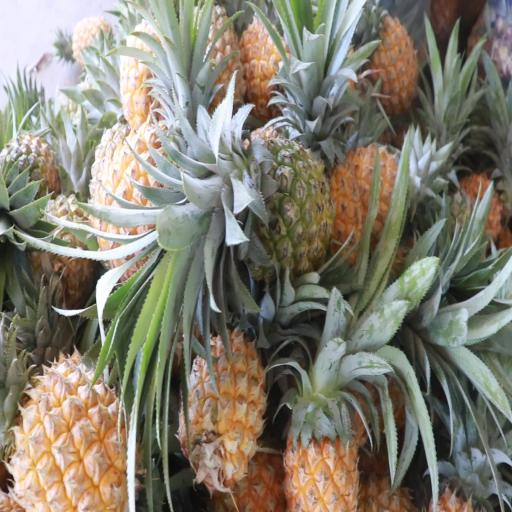Pineapple - v8 v1: (0, 351, 142, 512), (88, 114, 207, 270), (284, 328, 366, 512), (182, 324, 268, 498), (355, 12, 423, 115)
